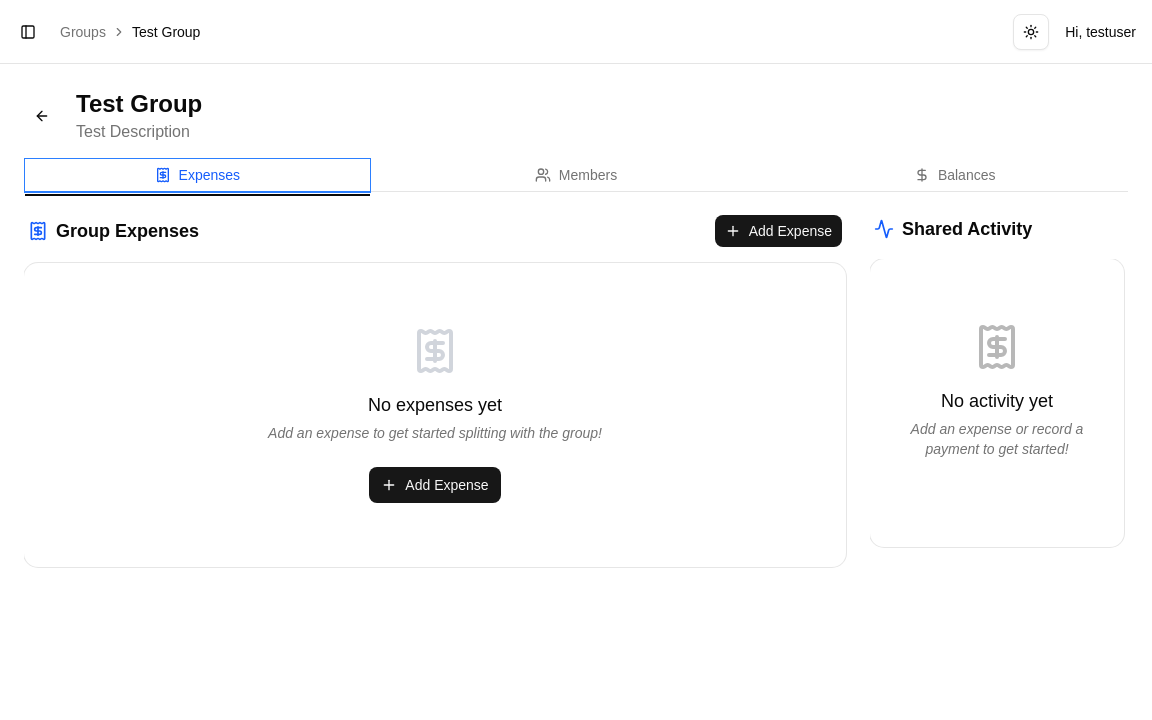
Test case: GroupDetails › renders member list with roles and names
Expected: the link "Test Group" is shown, [132,22,200,42]
Click the tab "Members" at (576, 176), box [403,158,749,193]
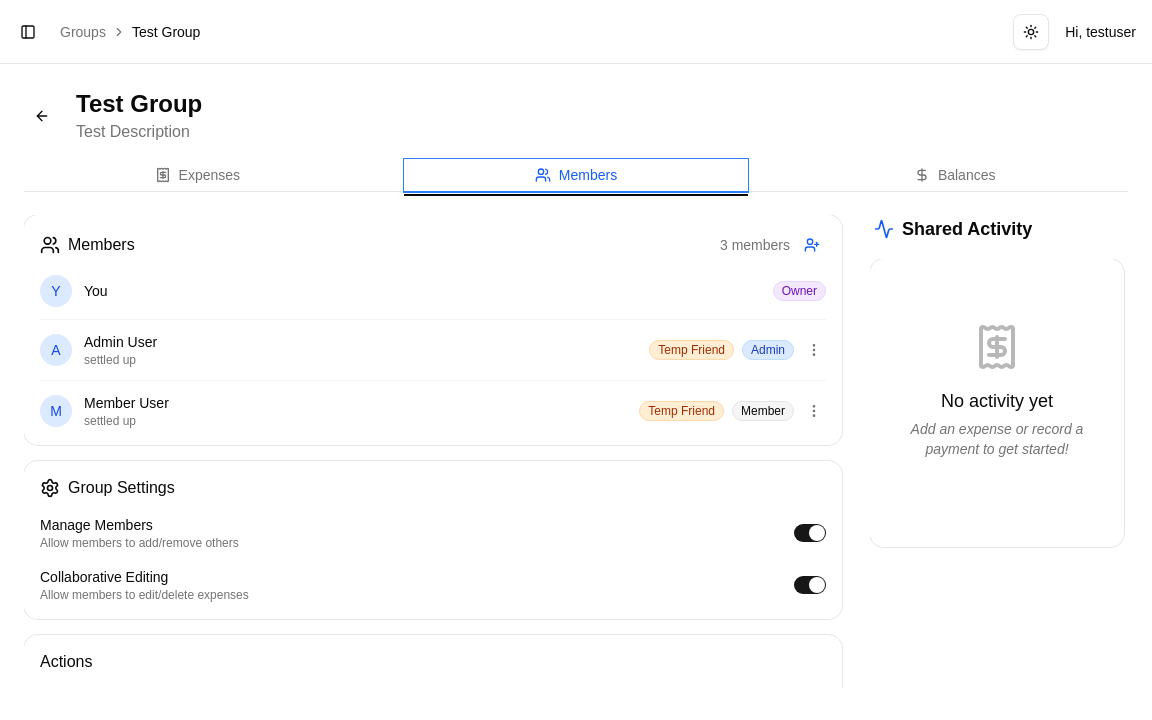
Expected: the text "You" is shown, [84,281,108,301]
Expected: the text "Admin User" is shown, [84,332,157,352]
Expected: the text "Member User" is shown, [84,393,169,413]
